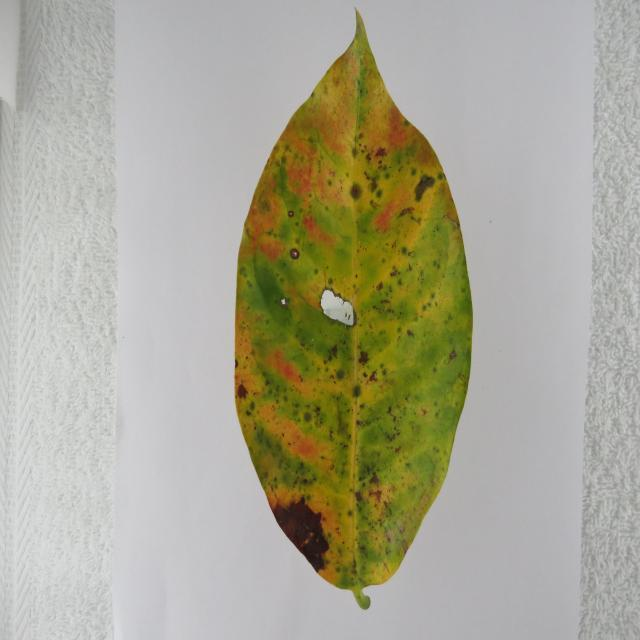DeficienciaNutricional-Fosforo: (235, 13, 472, 610)
